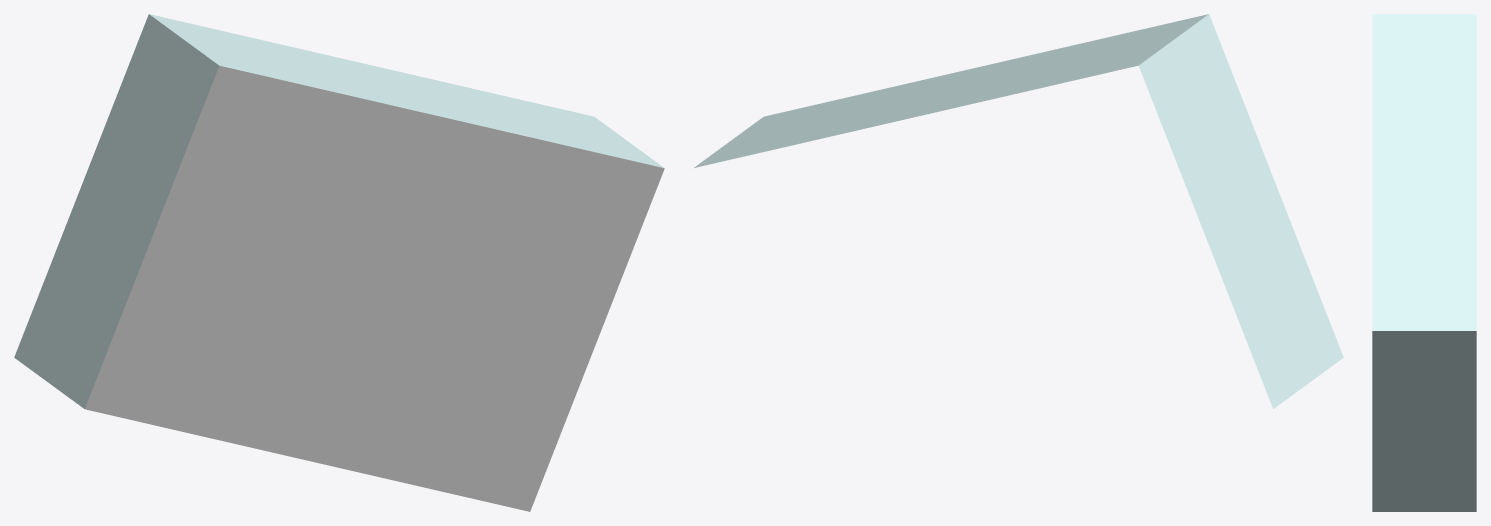
The picture shows the model from 3 angles, left to right: view 1: azimuth 30°, elevation 25°; view 2: azimuth 150°, elevation 25°; view 3: azimuth 270°, elevation 25°; orthographic projection. The views are drawn at different scales.
Visible parts, largest first — view 1: 0_3_1_2_3_0_3_2; view 2: 0_3_1_2_3_0_3_2; view 3: 0_3_1_2_3_0_3_2.
Part boxes in pixels (left/top/right/bottom): 0_3_1_2_3_0_3_2: left=14, top=14, right=664, bottom=511; 0_3_1_2_3_0_3_2: left=693, top=14, right=1343, bottom=408; 0_3_1_2_3_0_3_2: left=1372, top=14, right=1476, bottom=511.
Size of the model in its own units: 14.23 by 12.24 by 3.
